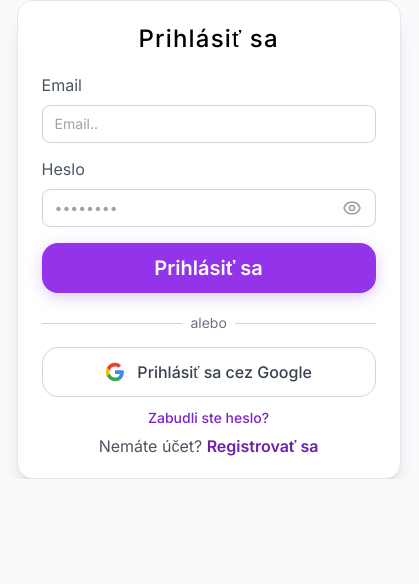
Scenario: LoginForm › does not navigate when /me verification fails after the login request
The image size is (419, 584).
Type "test@example.com" into the field labelled "Email".
click(209, 124); type("test@example.com")  # box [42,105,376,143]
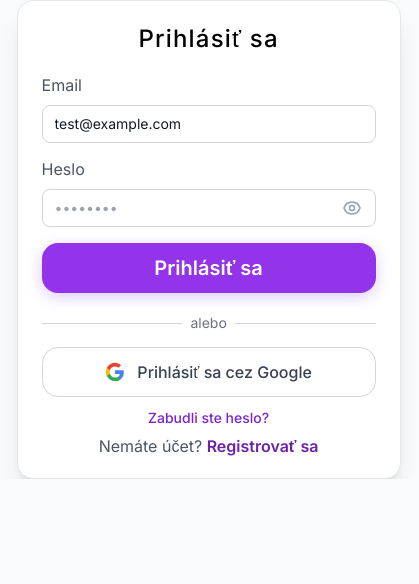
Type "password123" into the password field labelled "Heslo".
click(209, 208); type("password123")  # box [42,189,376,227]
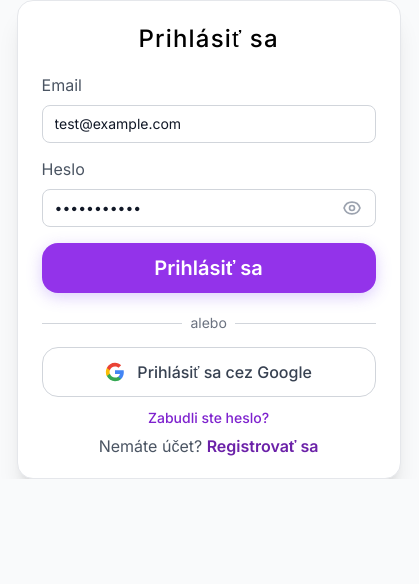
Click the button "Prihlásiť sa".
click(209, 268)  # box [42,243,376,293]
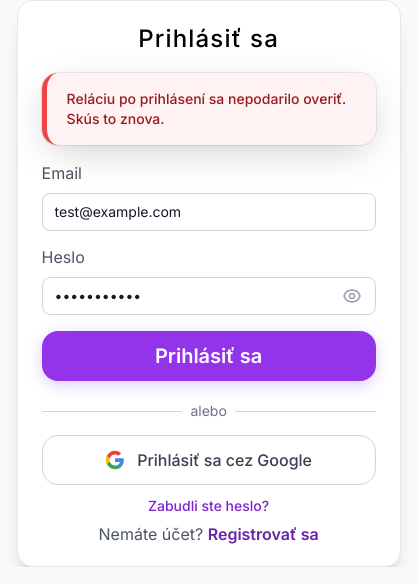
Expected: the button "Prihlásiť sa" is enabled, [42,331,376,381]
Result: the message reads "Reláciu po prihlásení sa nepodarilo overiť. Skús to znova." at [67,90,346,127]
